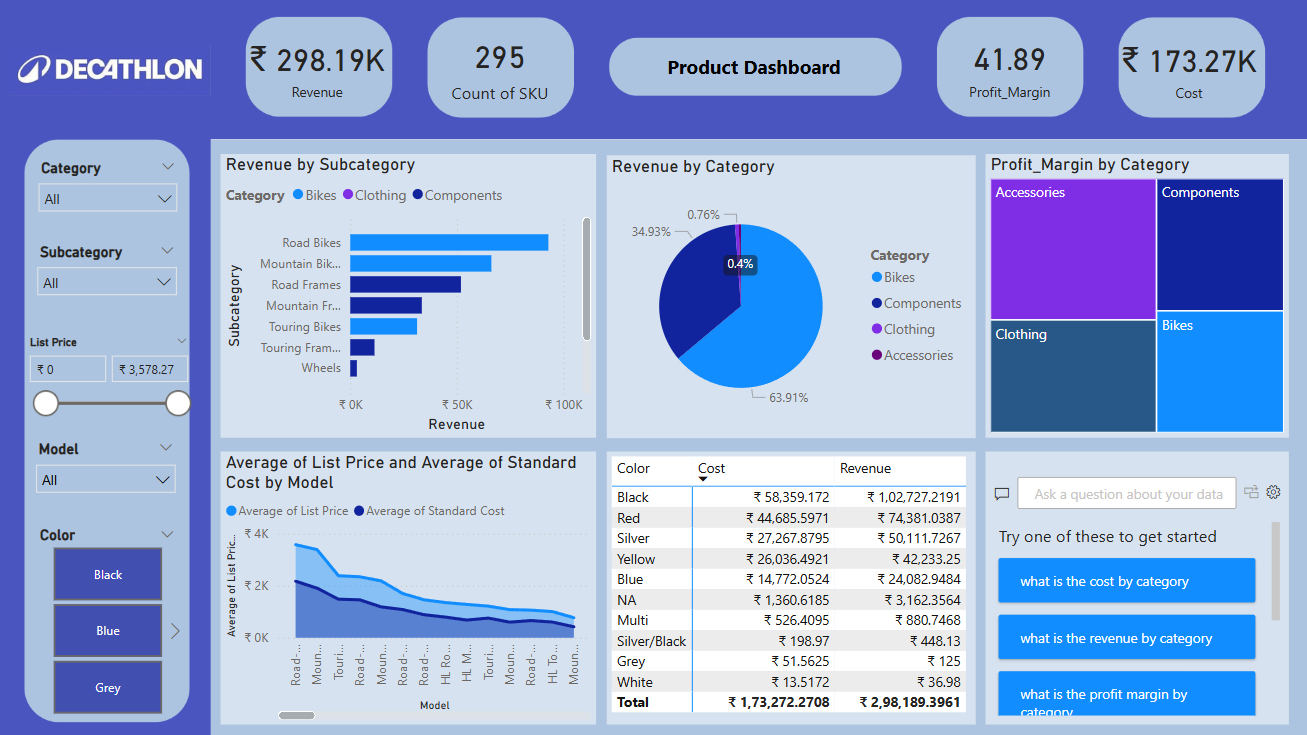

What the dashboard file says about the page in this screenshot:
{"tool":"powerbi","page":{"name":"Page 1","canvas":[1280,720],"ordinal":0},"visuals":[{"type":"card","fields":{"Values":["Product_data.Revenue"]},"box":[235.9,15.4,152.6,101.3],"z":0},{"type":"card","fields":{"Values":["Count(Product_data.SKU)"]},"box":[422.1,15.6,136.2,100.5],"z":1000},{"type":"card","fields":{"Values":["Product_data.Profit_Margin"]},"box":[914.5,15.6,145.2,100.5],"z":2000},{"type":"textbox","box":[605.1,48.7,265.4,35.9],"z":3000},{"type":"card","fields":{"Values":["Product_data.Cost"]},"box":[1087.2,16.7,151.3,101.3],"z":4000},{"type":"slicer","fields":{"Values":["Product_data.Category"]},"box":[29.1,151.2,155.8,90.7],"z":5000},{"type":"slicer","fields":{"Values":["Product_data.Subcategory"]},"box":[27.9,233.4,156.3,81.5],"z":6000},{"type":"slicer","fields":{"Values":["Product_data.Color"]},"box":[27.9,509.2,156.3,194.3],"z":7000},{"type":"slicer","fields":{"Values":["Product_data.Model"]},"box":[26.8,425.4,156.3,83.7],"z":8000},{"type":"pieChart","fields":{"Category":["Product_data.Category"],"Y":["Product_data.Revenue"]},"box":[593.6,152.6,360.3,275.6],"z":9000},{"type":"barChart","title":"Revenue by Subcategory","fields":{"Category":["Product_data.Subcategory"],"Y":["Product_data.Revenue"],"Series":["Product_data.Category"]},"box":[216.7,151.3,366.7,276.9],"z":10000},{"type":"areaChart","fields":{"Category":["Product_data.Model"],"Y":["Avg(Product_data.List Price)","Avg(Product_data.Standard Cost)"]},"box":[216.7,441,366.7,266.7],"z":11000},{"type":"pivotTable","fields":{"Rows":["Product_data.Color"],"Values":["Product_data.Cost","Product_data.Revenue"]},"box":[593.6,441,360.3,266.7],"z":12000},{"type":"treemap","fields":{"Group":["Product_data.Category","Product_data.Subcategory"],"Values":["Product_data.Profit_Margin"]},"box":[962.8,151.3,296.2,276.9],"z":13000},{"type":"qnaVisual","box":[962.8,441,296.2,266.7],"z":14000},{"type":"slicer","fields":{"Values":["Product_data.List Price"]},"box":[17.9,322.7,178.7,97.1],"z":15000}]}

Visuals, with their boxes in screenshot pixels (x1, y1, x2, y2), scaled from the page's 1280x720 canvas onto the 1307x735 screenshot:
card - Product_data.Revenue: <box>241,16,397,119</box>
card - Count(Product_data.SKU): <box>431,16,570,119</box>
card - Product_data.Profit_Margin: <box>934,16,1082,119</box>
textbox: <box>618,50,889,86</box>
card - Product_data.Cost: <box>1110,17,1265,120</box>
slicer - Product_data.Category: <box>30,154,189,247</box>
slicer - Product_data.Subcategory: <box>28,238,188,321</box>
slicer - Product_data.Color: <box>28,520,188,718</box>
slicer - Product_data.Model: <box>27,434,187,520</box>
pieChart - Product_data.Category x Product_data.Revenue: <box>606,156,974,437</box>
"Revenue by Subcategory" barChart: <box>221,154,596,437</box>
areaChart - Product_data.Model x Avg(Product_data.List Price): <box>221,450,596,722</box>
pivotTable - Product_data.Color x Product_data.Cost: <box>606,450,974,722</box>
treemap - Product_data.Category x Product_data.Subcategory: <box>983,154,1286,437</box>
qnaVisual: <box>983,450,1286,722</box>
slicer - Product_data.List Price: <box>18,329,201,429</box>
